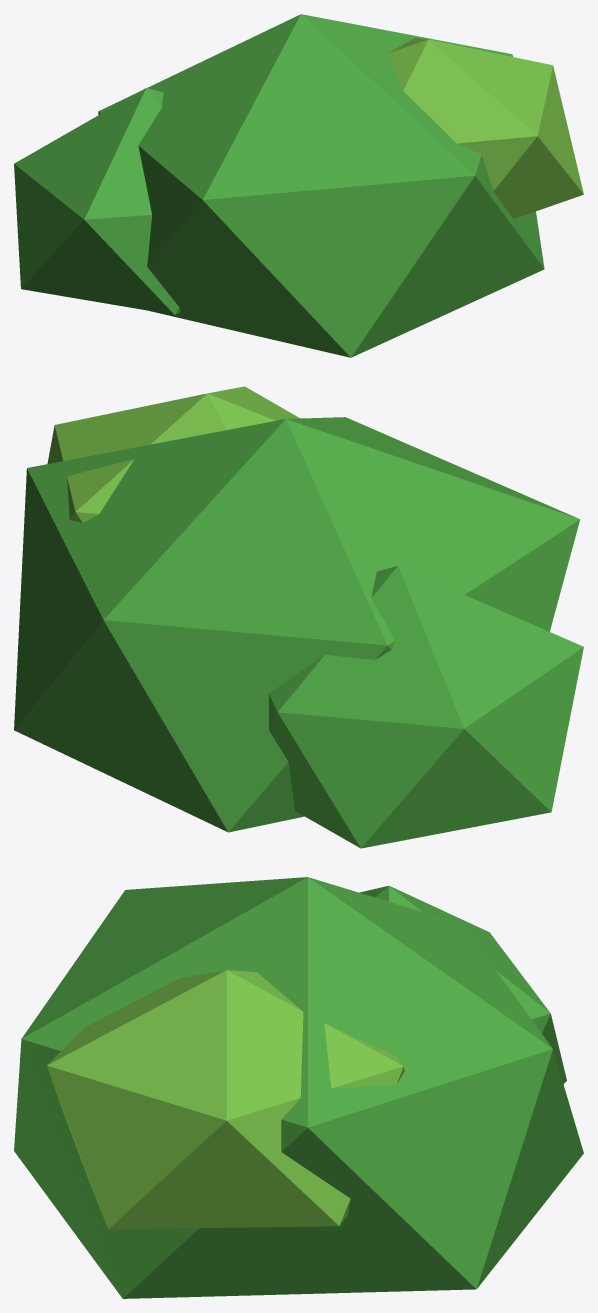
The model's file is Bush_Round.fbx.
The picture shows the model from 3 angles, top to bottom: view 1: azimuth 30°, elevation 25°; view 2: azimuth 150°, elevation 25°; view 3: azimuth 270°, elevation 25°; orthographic projection. The views are drawn at different scales.
Parts seen in each view (by area): view 1: Bush_Round; view 2: Bush_Round; view 3: Bush_Round.
Part boxes in pixels (x1,y1,x2,y2): Bush_Round: (14, 14, 583, 357); Bush_Round: (14, 386, 583, 848); Bush_Round: (14, 877, 583, 1298).
Bounding box in the file's own units: 1.71 × 0.8537 × 1.4.
